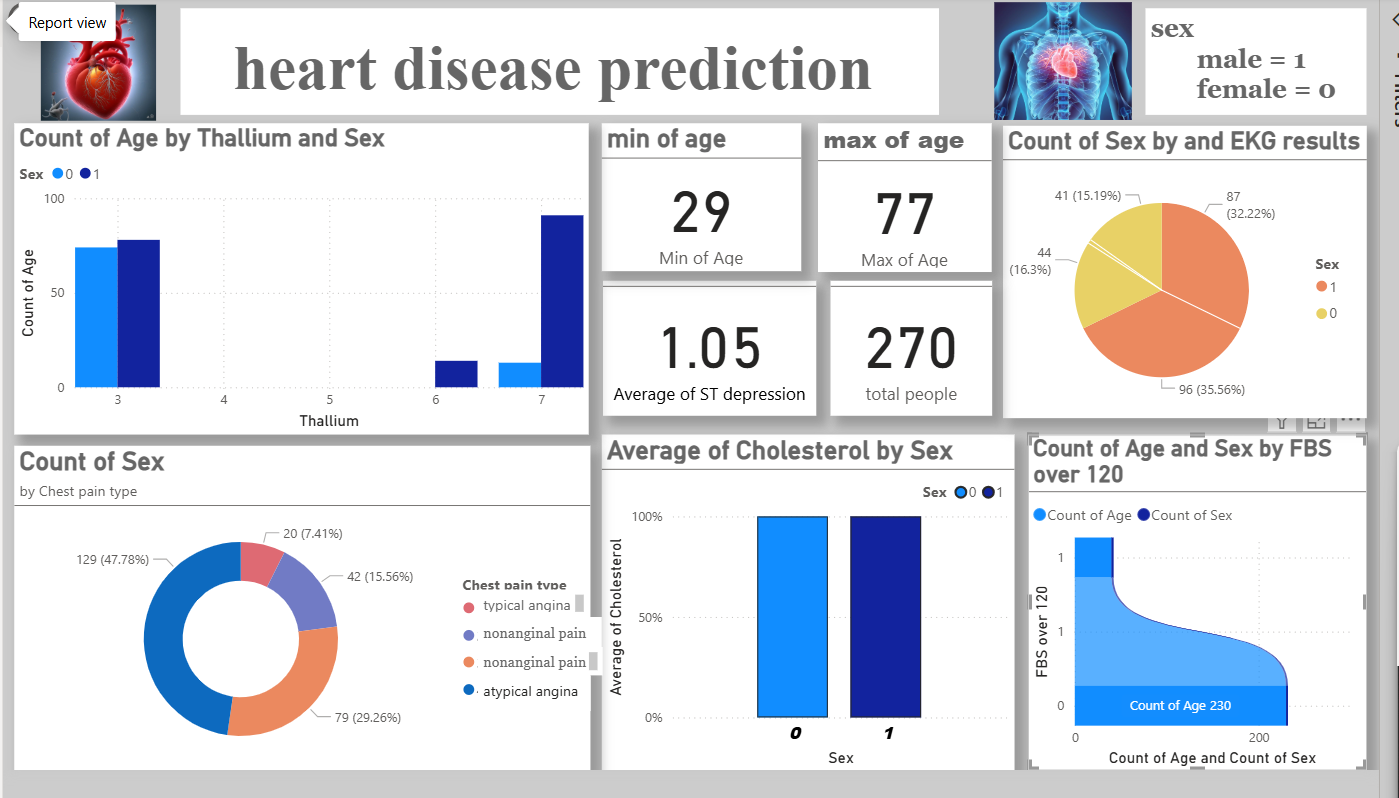

This screenshot's page, from the dashboard's own definition file:
{"tool":"powerbi","page":{"name":"page 1","canvas":[1280,720],"ordinal":0},"visuals":[{"type":"hundredPercentStackedColumnChart","title":"Average of Cholesterol by Sex","fields":{"Y":["Avg(heart_disease_prediction.Cholesterol)"],"Series":["heart_disease_prediction.Sex"],"Category":["heart_disease_prediction.Sex"]},"box":[557.3,406.7,384,313.3],"z":0},{"type":"card","fields":{"Values":["Avg(heart_disease_prediction.ST depression)"]},"box":[558.7,264,198.7,125.3],"z":1000},{"type":"barChart","title":"Count of Age and Sex by FBS over 120","fields":{"Y":["CountNonNull(heart_disease_prediction.Age)","Count(heart_disease_prediction.Sex)"],"Category":["heart_disease_prediction.FBS over 120"]},"box":[954.7,406.7,314.7,313.3],"z":2000},{"type":"actionButton","box":[0,0,100,40],"z":3000},{"type":"pieChart","title":"Count of Sex by and EKG results","fields":{"Y":["CountNonNull(heart_disease_prediction.Sex)"],"Series":["heart_disease_prediction.EKG results"],"Category":["heart_disease_prediction.Sex"]},"box":[930.7,120,338.7,272],"z":4000},{"type":"card","title":"min of age","fields":{"Values":["Min(heart_disease_prediction.Age)"]},"box":[557.3,117.3,185.3,137.3],"z":5000},{"type":"card","title":"max of  age","fields":{"Values":["Max(heart_disease_prediction.Age)"]},"box":[758.7,117.3,161.3,138.7],"z":6000},{"type":"card","fields":{"Values":["CountNonNull(heart_disease_prediction.Number of vessels fluro)"]},"box":[769.3,264,150.7,125.3],"z":7000},{"type":"clusteredColumnChart","fields":{"Category":["heart_disease_prediction.Thallium"],"Y":["CountNonNull(heart_disease_prediction.Age)"],"Series":["heart_disease_prediction.Sex"]},"box":[10.7,117.3,534.7,289.3],"z":8000},{"type":"donutChart","fields":{"Series":["heart_disease_prediction.Chest pain type"],"Y":["CountNonNull(heart_disease_prediction.Sex)"]},"box":[10.7,417.3,536,302.7],"z":9000},{"type":"image","box":[0,2.3,177.9,117.4],"z":10000},{"type":"image","box":[909.3,0,153.5,119.8],"z":11000},{"type":"textbox","box":[165.1,10.5,705.8,98.8],"z":12000},{"type":"textbox","box":[441.9,551.2,103.5,25.6],"z":13000},{"type":"textbox","box":[441.9,576.7,115.1,27.9],"z":14000},{"type":"textbox","box":[441.9,604.7,116.3,26.7],"z":15000},{"type":"textbox","box":[441.9,631.4,104.7,32.6],"z":16000},{"type":"textbox","box":[1062.8,10.5,205.8,98.8],"z":17000}]}

Visuals, with their boxes in screenshot pixels (x1, y1, x2, y2):
"Average of Cholesterol by Sex" hundredPercentStackedColumnChart: detection(597, 431, 1011, 769)
card - Avg(heart_disease_prediction.ST depression): detection(599, 277, 813, 412)
"Count of Age and Sex by FBS over 120" barChart: detection(1025, 431, 1365, 769)
actionButton: detection(0, 0, 104, 36)
"Count of Sex by and EKG results" pieChart: detection(1000, 122, 1365, 415)
"min of age" card: detection(597, 119, 797, 267)
"max of  age" card: detection(814, 119, 988, 269)
card - CountNonNull(heart_disease_prediction.Number of vessels fluro): detection(826, 277, 988, 412)
clusteredColumnChart - heart_disease_prediction.Thallium x CountNonNull(heart_disease_prediction.Age): detection(8, 119, 584, 431)
donutChart - heart_disease_prediction.Chest pain type x CountNonNull(heart_disease_prediction.Sex): detection(8, 443, 586, 769)
image: detection(0, 0, 188, 122)
image: detection(976, 0, 1142, 122)
textbox: detection(174, 4, 935, 111)
textbox: detection(473, 587, 584, 614)
textbox: detection(473, 614, 597, 644)
textbox: detection(473, 644, 598, 673)
textbox: detection(473, 673, 586, 708)
textbox: detection(1142, 4, 1364, 111)
